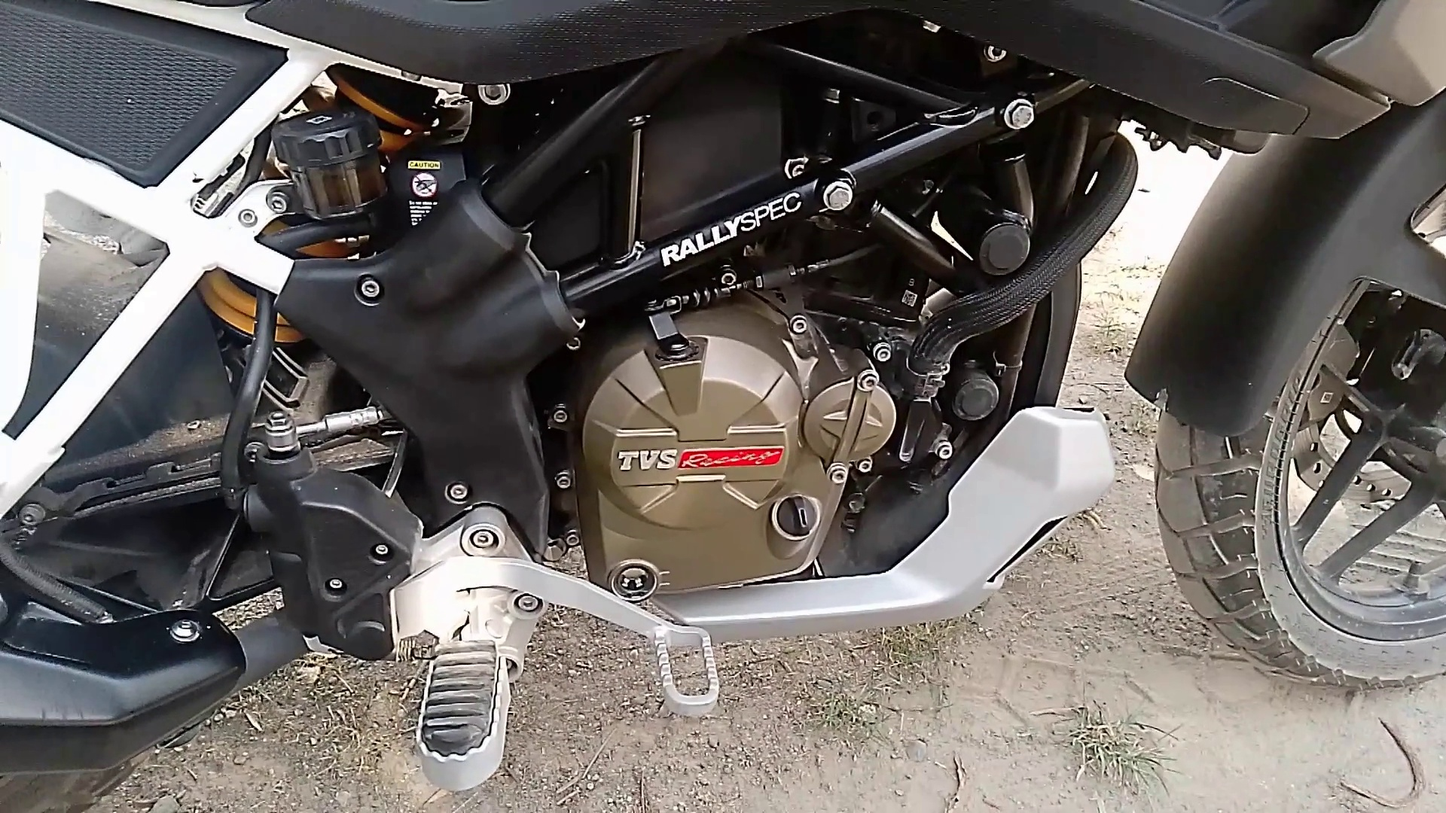engine: (544, 160, 924, 647)
oil_cap: (755, 472, 834, 553)
oil_marker: (599, 540, 687, 619)
